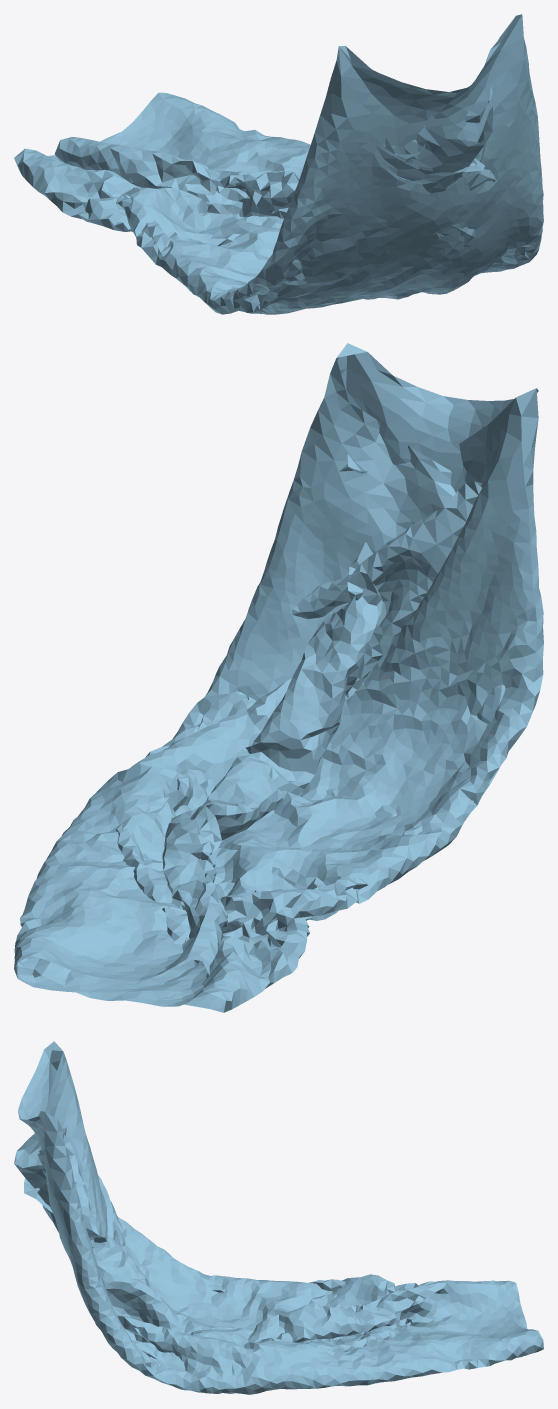
File: frame_06.glb
3 views of the same model, one above another, from view 1: azimuth 30°, elevation 25°; view 2: azimuth 150°, elevation 25°; view 3: azimuth 270°, elevation 25° (orthographic). The views are drawn at different scales.
Parts seen in each view (by area): view 1: frame_06.obj; view 2: frame_06.obj; view 3: frame_06.obj.
Boxes of the visible parts, x1,y1,x2,y2 form: frame_06.obj: [14, 14, 543, 314]; frame_06.obj: [14, 343, 543, 1012]; frame_06.obj: [14, 1041, 543, 1394].
Bounding box in the file's own units: 0.811 × 0.9018 × 1.64.
